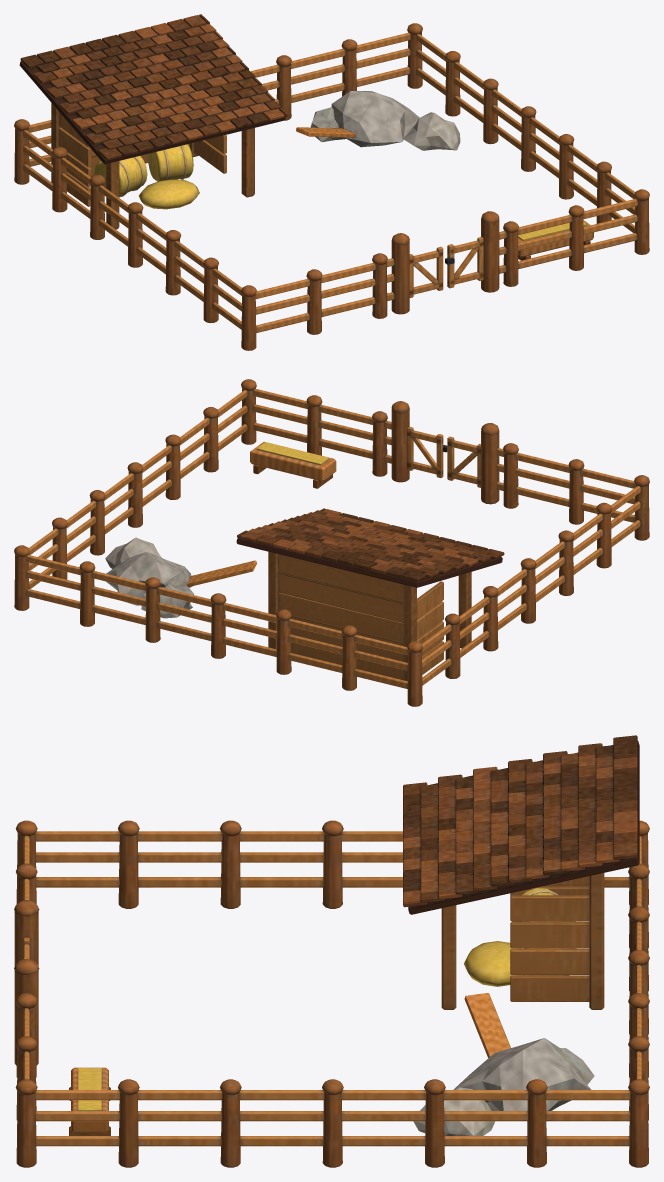
The model's file is angora_yard.glb.
The picture shows the model from 3 angles, top to bottom: view 1: azimuth 30°, elevation 25°; view 2: azimuth 150°, elevation 25°; view 3: azimuth 270°, elevation 25°; orthographic projection. The views are drawn at different scales.
Parts seen in each view (by area): view 1: angora_yard, gate1, gate0; view 2: angora_yard, gate1, gate0; view 3: angora_yard.
Boxes of the visible parts, bbox=[...] form: angora_yard: bbox=[14, 14, 649, 350]; gate1: bbox=[445, 236, 483, 288]; gate0: bbox=[409, 246, 443, 297]; angora_yard: bbox=[14, 379, 649, 706]; gate1: bbox=[407, 426, 447, 477]; gate0: bbox=[447, 436, 480, 487]; angora_yard: bbox=[14, 735, 649, 1167].
Size of the model in its own units: 3 by 0.9345 by 3.01.
1 material, 1 textured.
